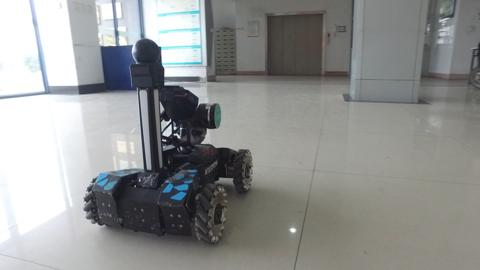chariot: (81, 30, 261, 249)
